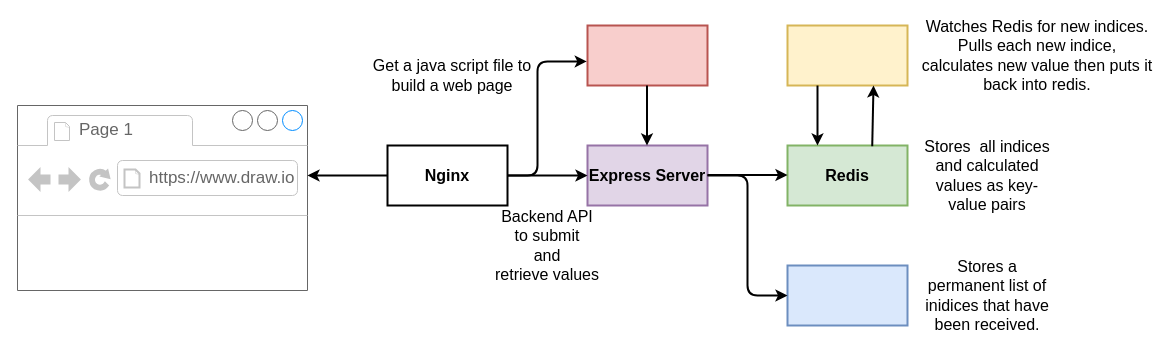
The diagram is 1175 pixels wide and 351 high, and some of its shapes have lost their labels. Here are the shapes that lost their labels. From the top down, the centre of each, then its label:
At point (647, 55): "React Server".
At point (847, 55): "Worker".
At point (847, 295): "Postgres".
